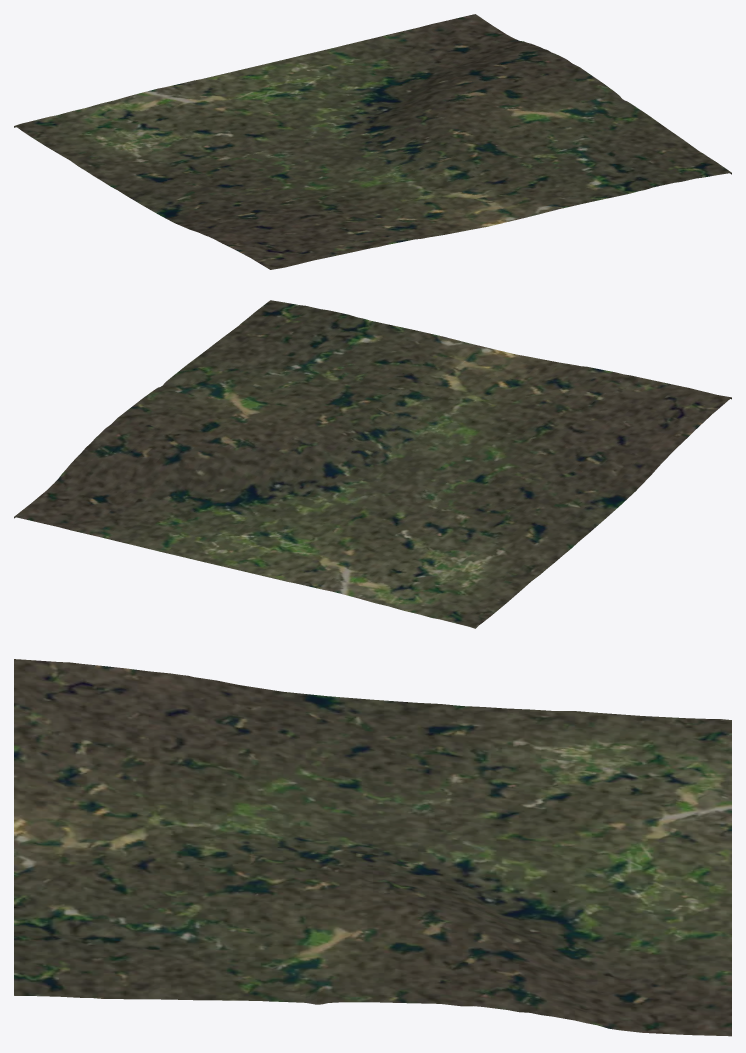
3 views of the same model, one above another, from view 1: azimuth 30°, elevation 25°; view 2: azimuth 150°, elevation 25°; view 3: azimuth 270°, elevation 25° (orthographic). The views are drawn at different scales.
Bounding box in the file's own units: 250 × 23.93 × 241.
1 material, 1 textured.
